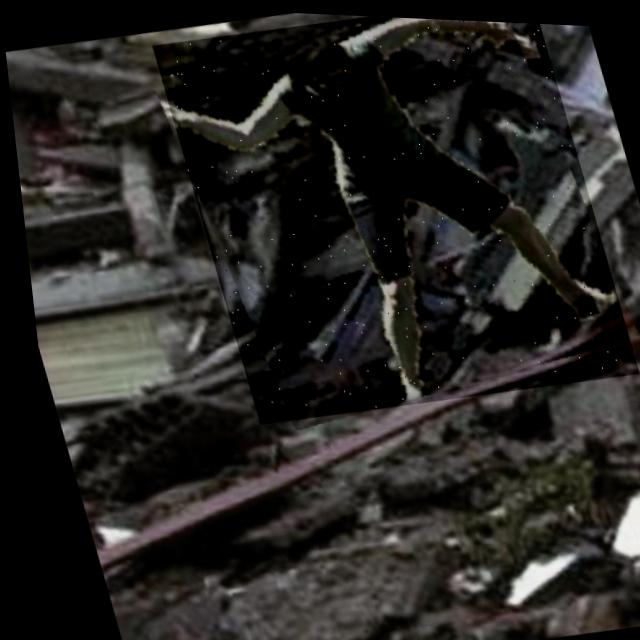Person in Rubble: (147, 5, 636, 435)
